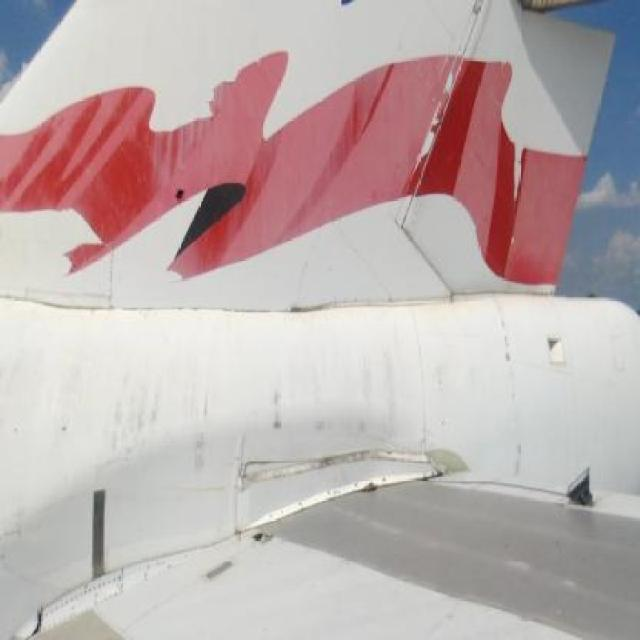Missing-Rivet: (38, 584, 142, 618)
Rust: (319, 448, 379, 474)
Scartch: (105, 372, 224, 480), (490, 309, 527, 473), (258, 382, 304, 442), (251, 527, 289, 561), (546, 326, 566, 356)
